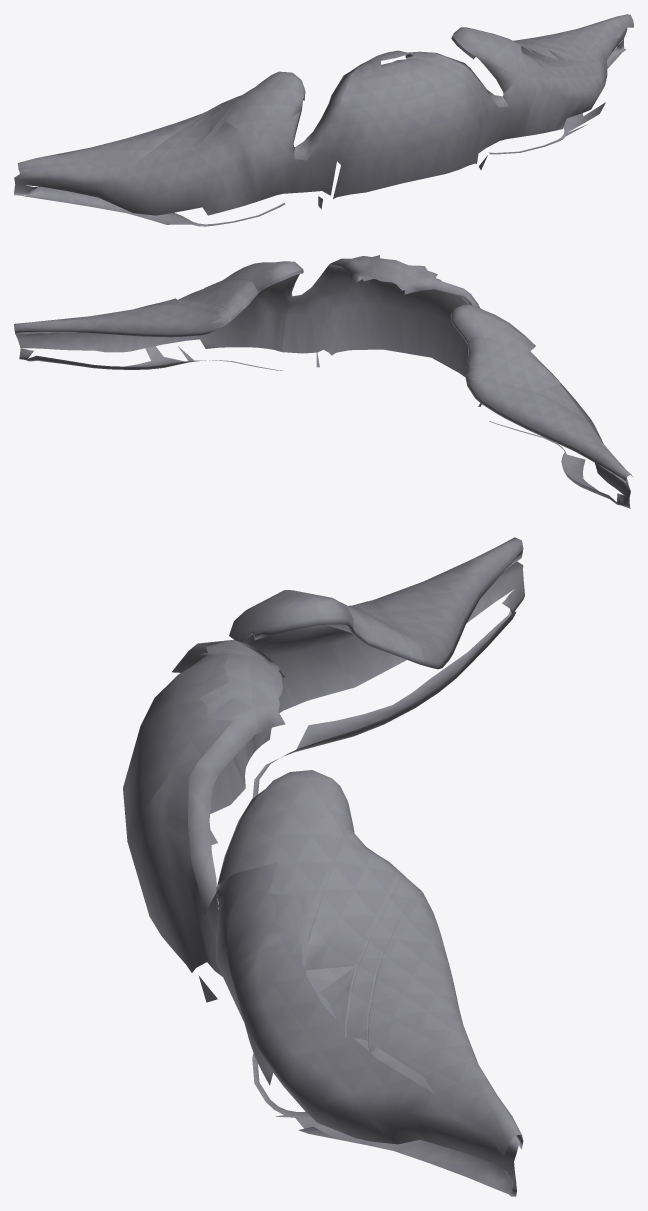
Rendered from pref_sm_beach_bk_winter_pointmol_topbuild02_lv0.fbx.
3 views of the same model, one above another, from view 1: azimuth 30°, elevation 25°; view 2: azimuth 150°, elevation 25°; view 3: azimuth 270°, elevation 25° (orthographic). The views are drawn at different scales.
Visible parts, largest first — view 1: sm_beach_bk_winter_pointmol_topbuild02a_lv0, sm_beach_bk_winter_pointmol_topbuild02c_lv0, sm_beach_bk_winter_pointmol_topbuild02b_lv0; view 2: sm_beach_bk_winter_pointmol_topbuild02b_lv0, sm_beach_bk_winter_pointmol_topbuild02c_lv0, sm_beach_bk_winter_pointmol_topbuild02a_lv0; view 3: sm_beach_bk_winter_pointmol_topbuild02b_lv0, sm_beach_bk_winter_pointmol_topbuild02c_lv0, sm_beach_bk_winter_pointmol_topbuild02a_lv0.
Boxes of the visible parts, x1=… form: sm_beach_bk_winter_pointmol_topbuild02a_lv0: x1=14, y1=71, x2=305, y2=226; sm_beach_bk_winter_pointmol_topbuild02c_lv0: x1=283, y1=50, x2=509, y2=209; sm_beach_bk_winter_pointmol_topbuild02b_lv0: x1=451, y1=14, x2=633, y2=154; sm_beach_bk_winter_pointmol_topbuild02b_lv0: x1=14, y1=261, x2=303, y2=370; sm_beach_bk_winter_pointmol_topbuild02c_lv0: x1=281, y1=255, x2=481, y2=406; sm_beach_bk_winter_pointmol_topbuild02a_lv0: x1=450, y1=304, x2=633, y2=508; sm_beach_bk_winter_pointmol_topbuild02b_lv0: x1=216, y1=770, x2=523, y2=1196; sm_beach_bk_winter_pointmol_topbuild02c_lv0: x1=123, y1=639, x2=285, y2=1002; sm_beach_bk_winter_pointmol_topbuild02a_lv0: x1=229, y1=537, x2=524, y2=798.
Size of the model in its own units: 152 by 31.67 by 42.91.
